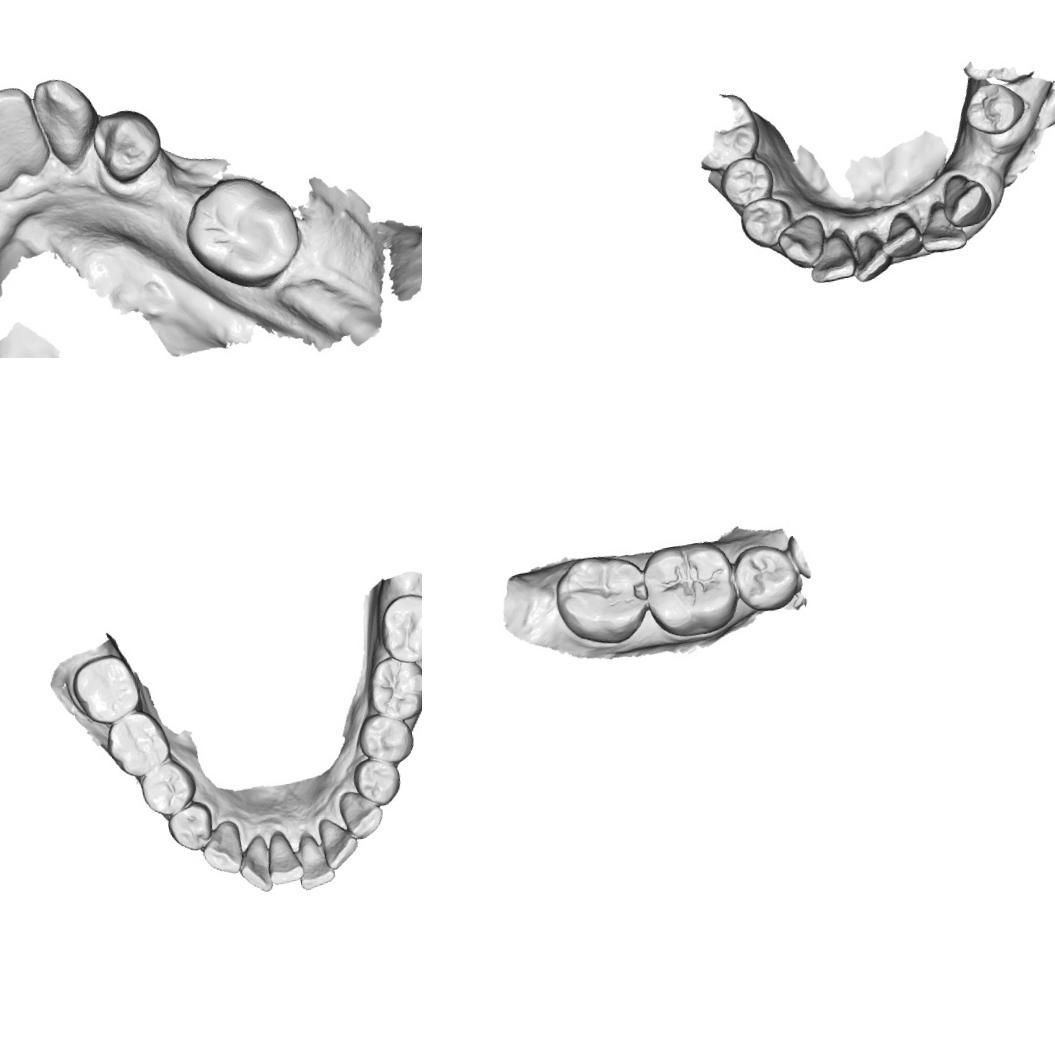canine: (28, 72, 103, 171), (939, 170, 995, 230), (774, 212, 830, 272), (196, 817, 248, 881), (336, 786, 388, 842)
incisor: (914, 198, 970, 255), (804, 230, 858, 287), (233, 832, 278, 898), (315, 812, 363, 872), (260, 826, 307, 887), (293, 831, 337, 893), (0, 80, 38, 146), (878, 210, 924, 262), (847, 233, 891, 285)
molar: (176, 167, 308, 295), (640, 535, 744, 642), (552, 550, 654, 654), (686, 86, 765, 174), (66, 648, 146, 729), (100, 705, 175, 783), (362, 651, 422, 726), (374, 587, 422, 667)
premolar: (86, 104, 166, 185), (728, 539, 804, 616), (136, 755, 202, 821), (960, 78, 1030, 140), (352, 706, 418, 770), (716, 153, 778, 212), (736, 191, 795, 252), (163, 798, 217, 858), (350, 754, 405, 810)
